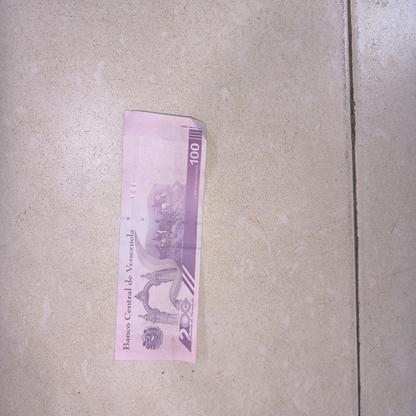one_hundred-back-vef: (114, 109, 208, 364)
